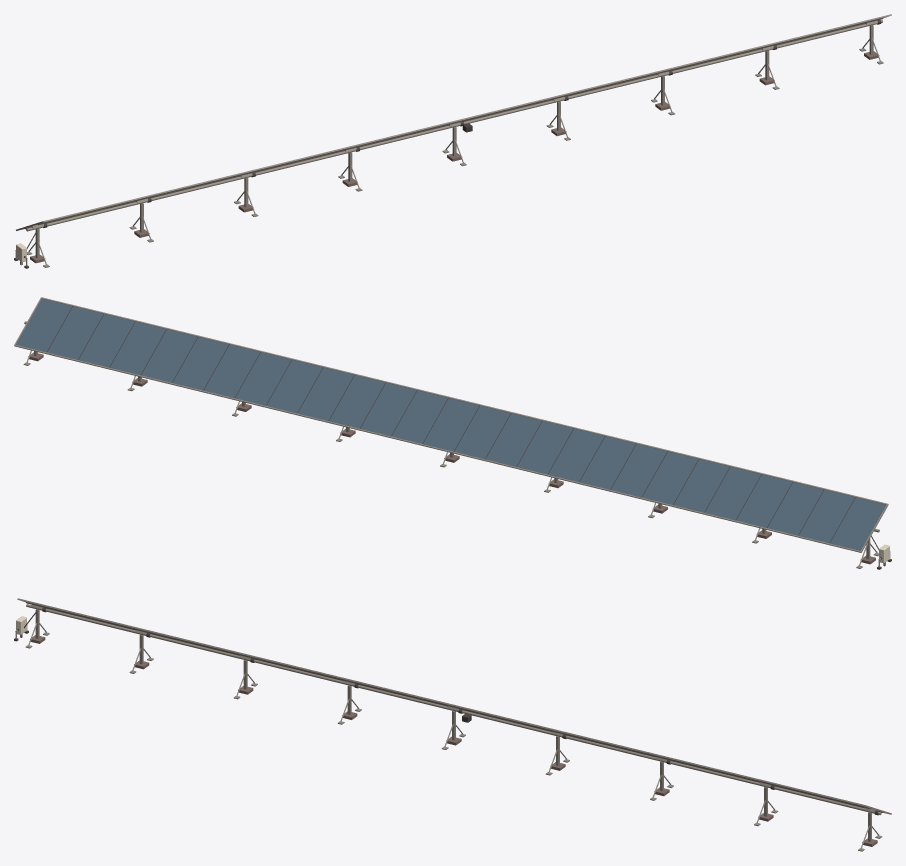
The model's file is building_solar_wing.glb.
3 views of the same model, one above another, from view 1: azimuth 30°, elevation 25°; view 2: azimuth 150°, elevation 25°; view 3: azimuth 330°, elevation 25° (orthographic).
Parts seen in each view (by area): view 1: frame-col, panel_1; view 2: panel_1, frame-col; view 3: frame-col, panel_1.
Boxes of the visible parts, x1,y1,x2,y2 form: frame-col: (26, 20, 883, 267); panel_1: (16, 14, 891, 230); panel_1: (14, 297, 888, 552); frame-col: (23, 321, 879, 568); frame-col: (25, 604, 882, 851); panel_1: (17, 598, 891, 814).
Bounding box in the file's own units: 39.92 × 2.24 × 2.21.
